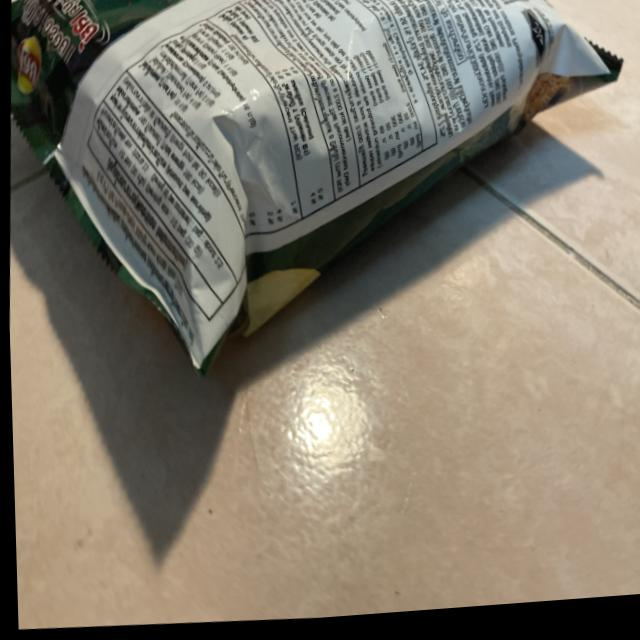Laygreen: (0, 0, 637, 433)
